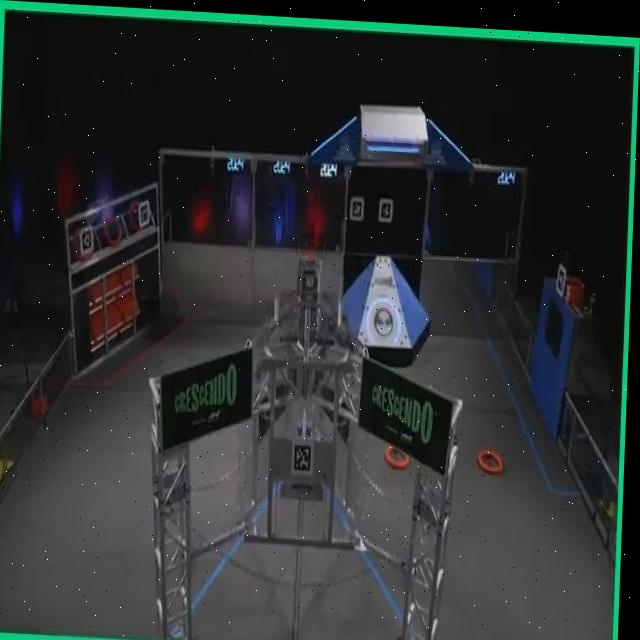note: (481, 441, 505, 469), (481, 441, 505, 469), (390, 440, 413, 465), (390, 440, 413, 465)
